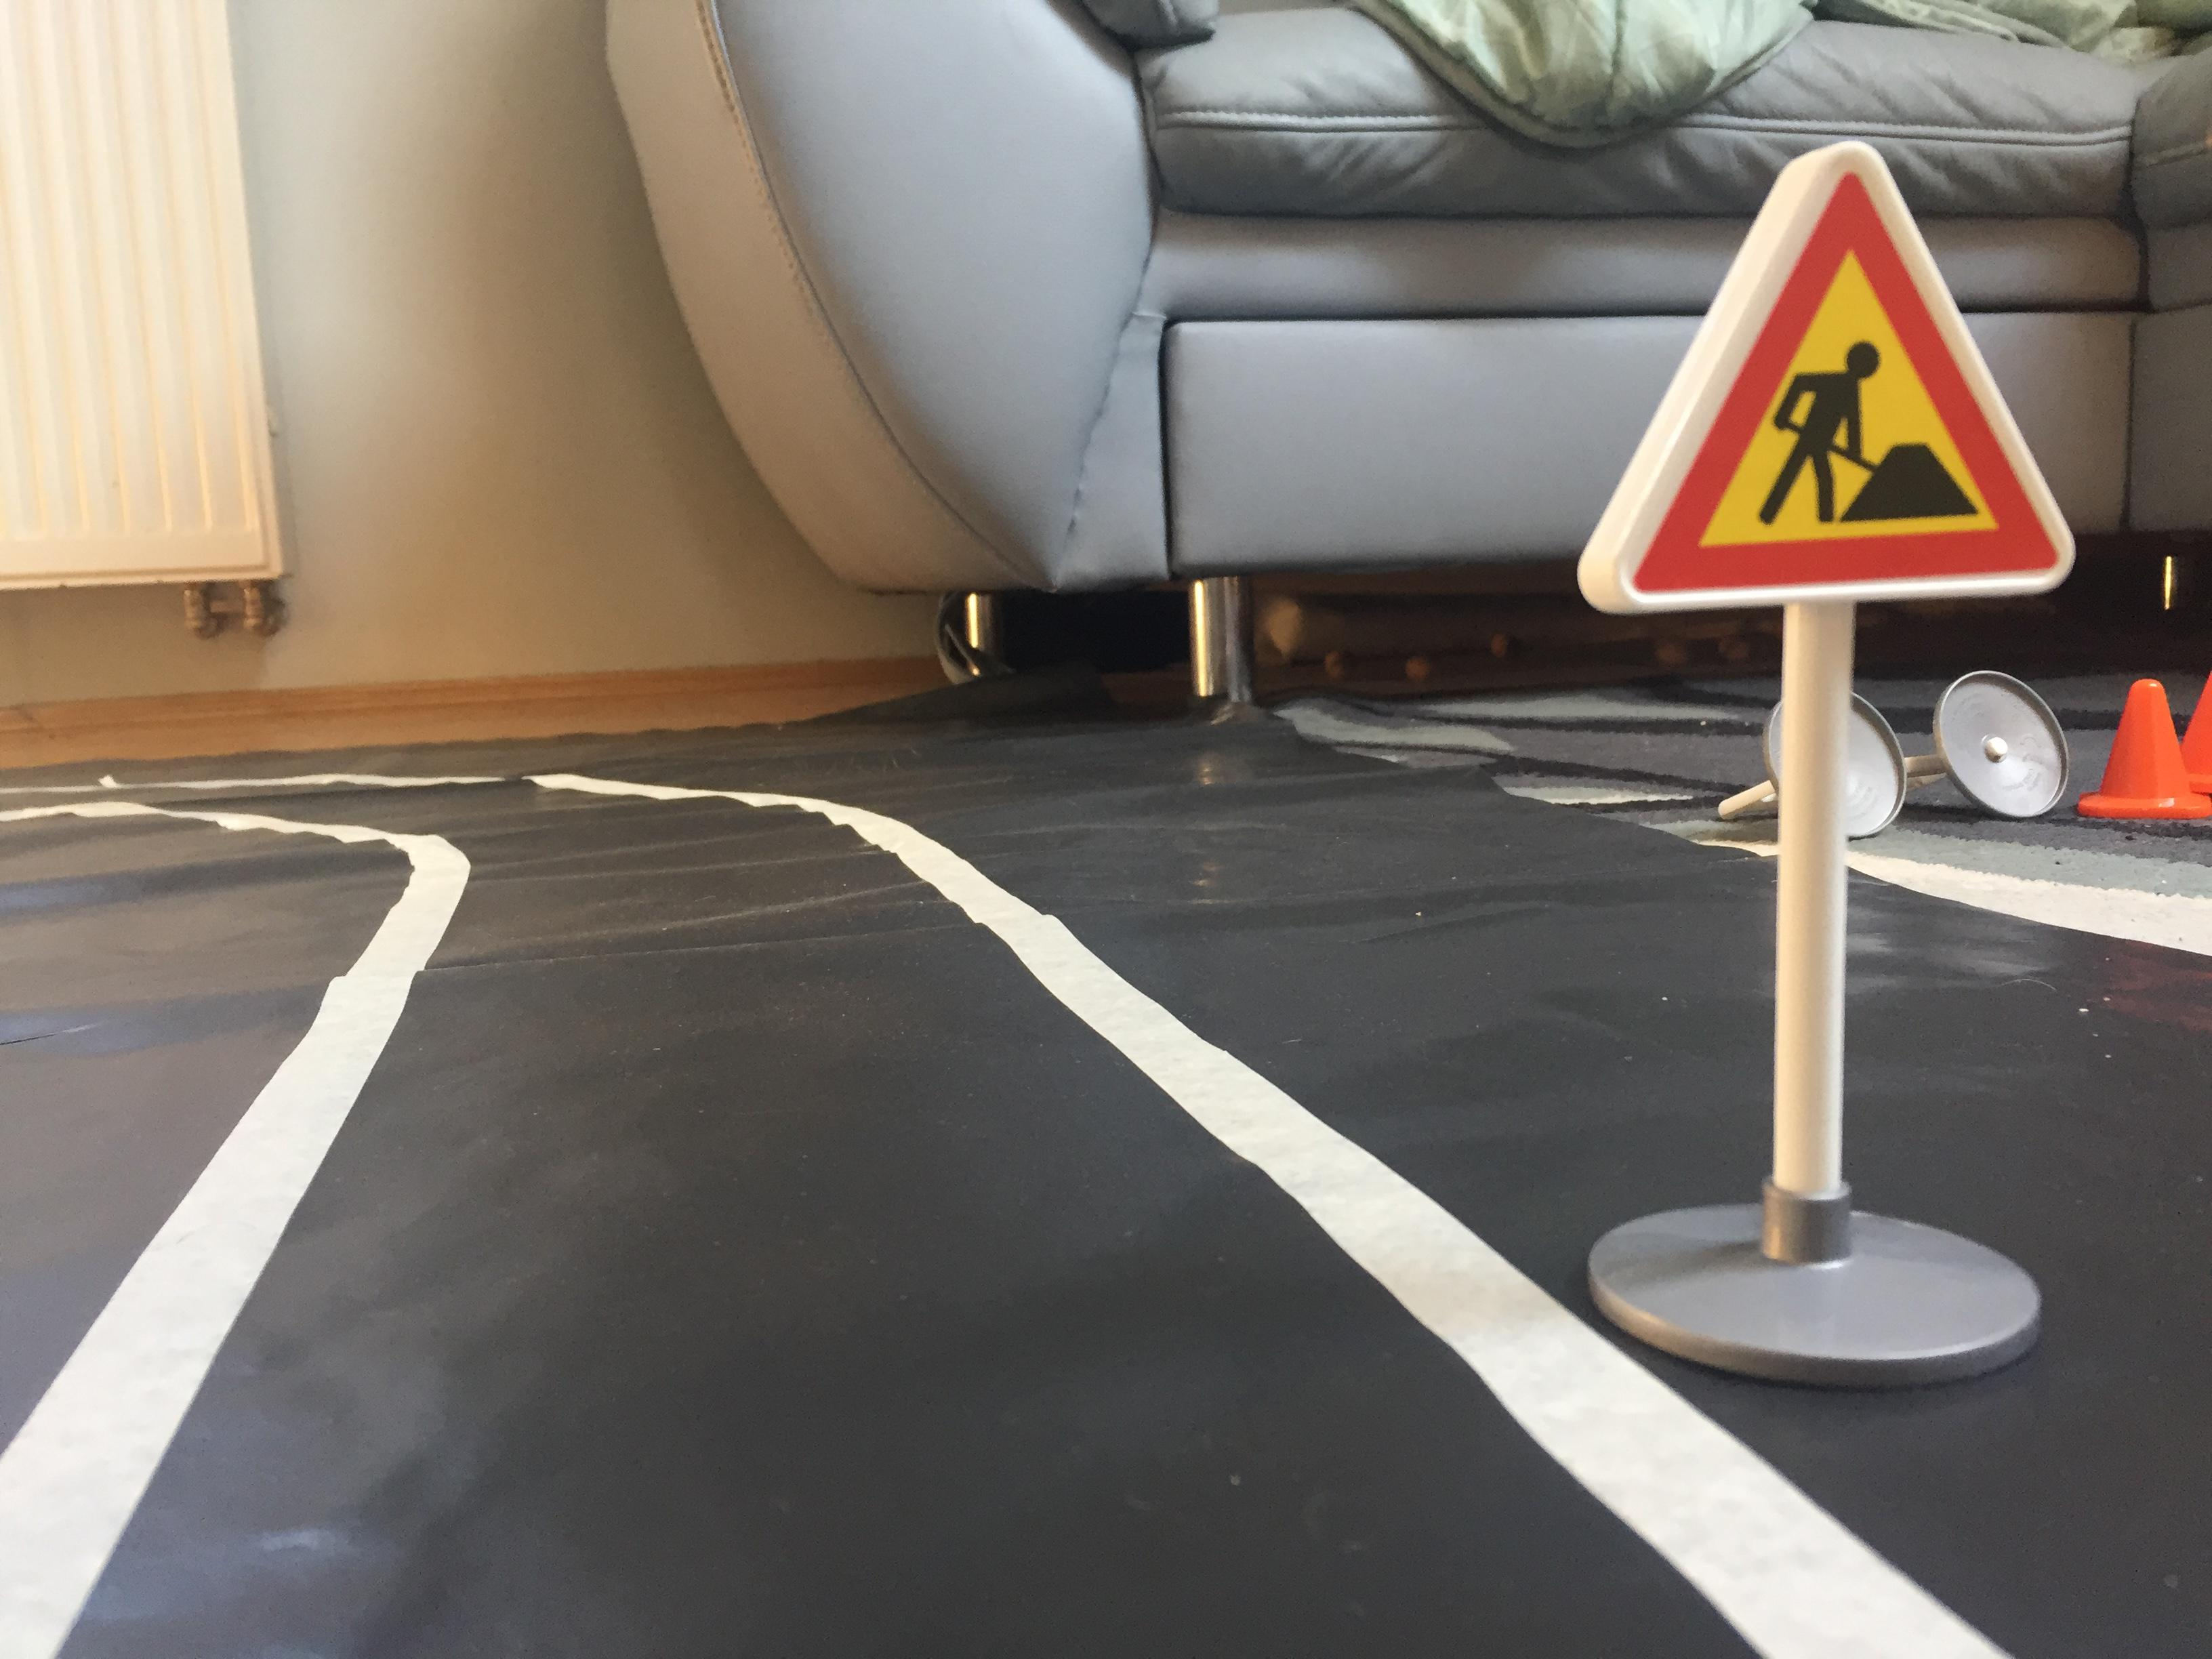work: (1568, 138, 2094, 622)
